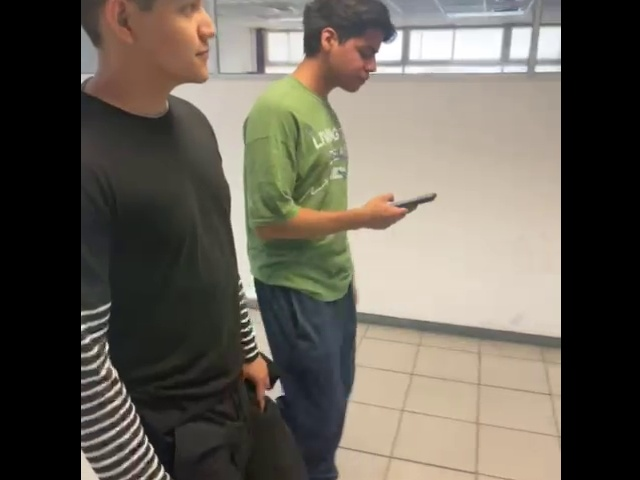mixto2: (384, 184, 440, 212)
